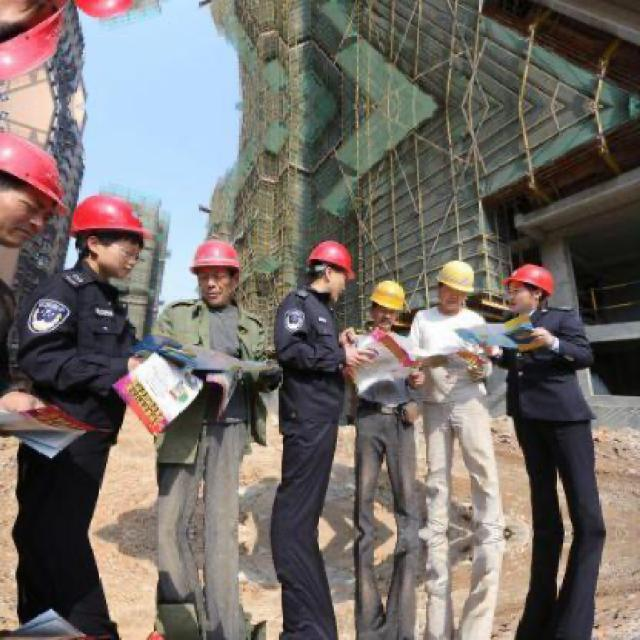con casco: (268, 218, 385, 348), (55, 168, 147, 294), (0, 145, 84, 260), (282, 222, 366, 326), (504, 238, 589, 332), (405, 241, 497, 323), (167, 215, 251, 302), (346, 268, 422, 354)
